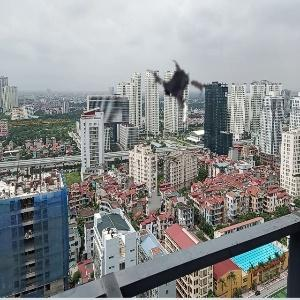drone: (135, 54, 218, 137)
